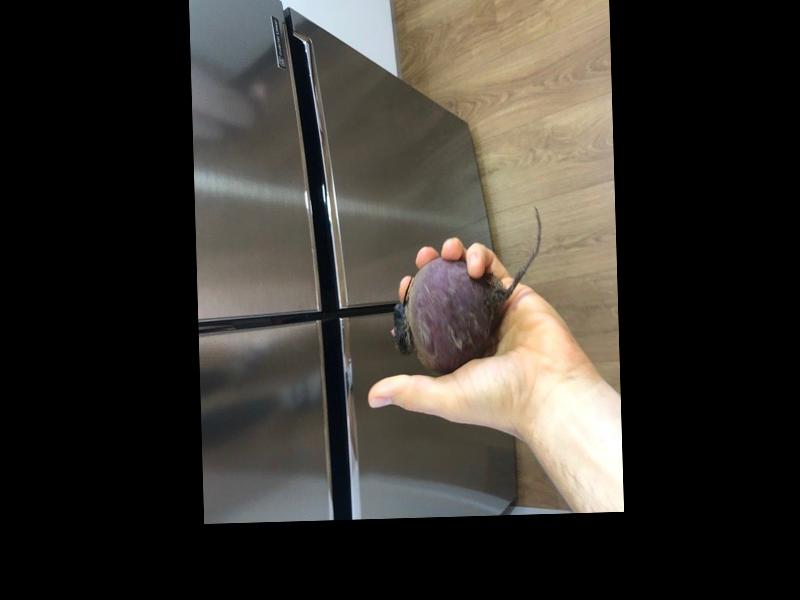Beet: (388, 205, 544, 376)
